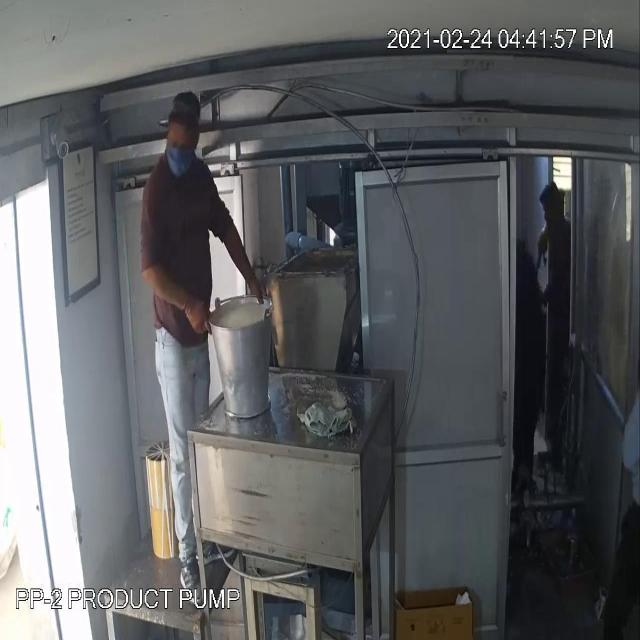no-helmet: (157, 79, 207, 141)
